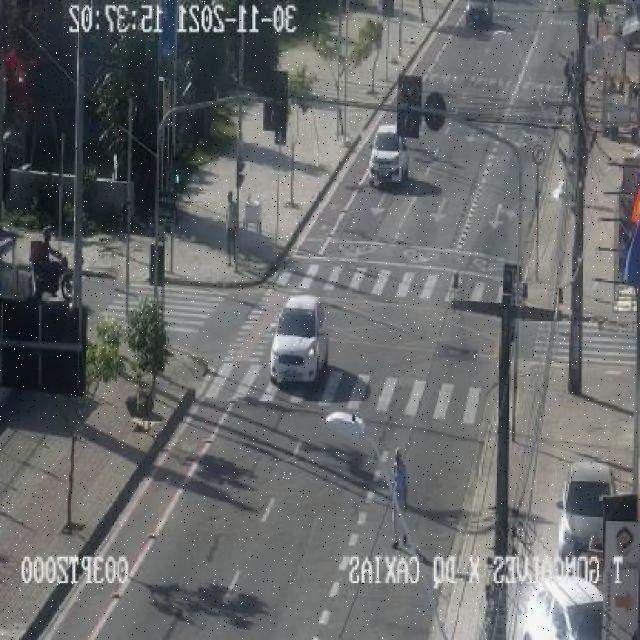Car: (267, 296, 328, 385), (367, 122, 412, 188)
